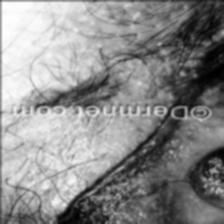Toxin: (36, 68, 118, 113)
